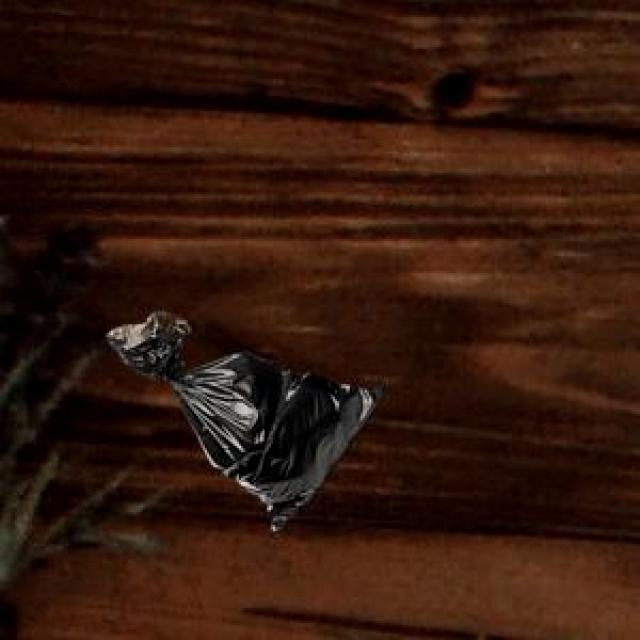Trashbag: (108, 303, 390, 538)
